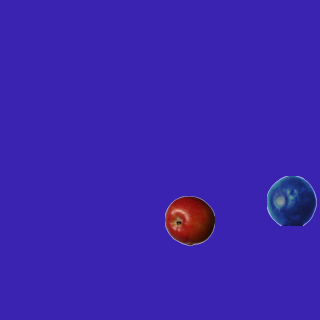Apple Braeburn: (164, 195, 214, 245)
Huckleberry: (266, 175, 316, 225)
